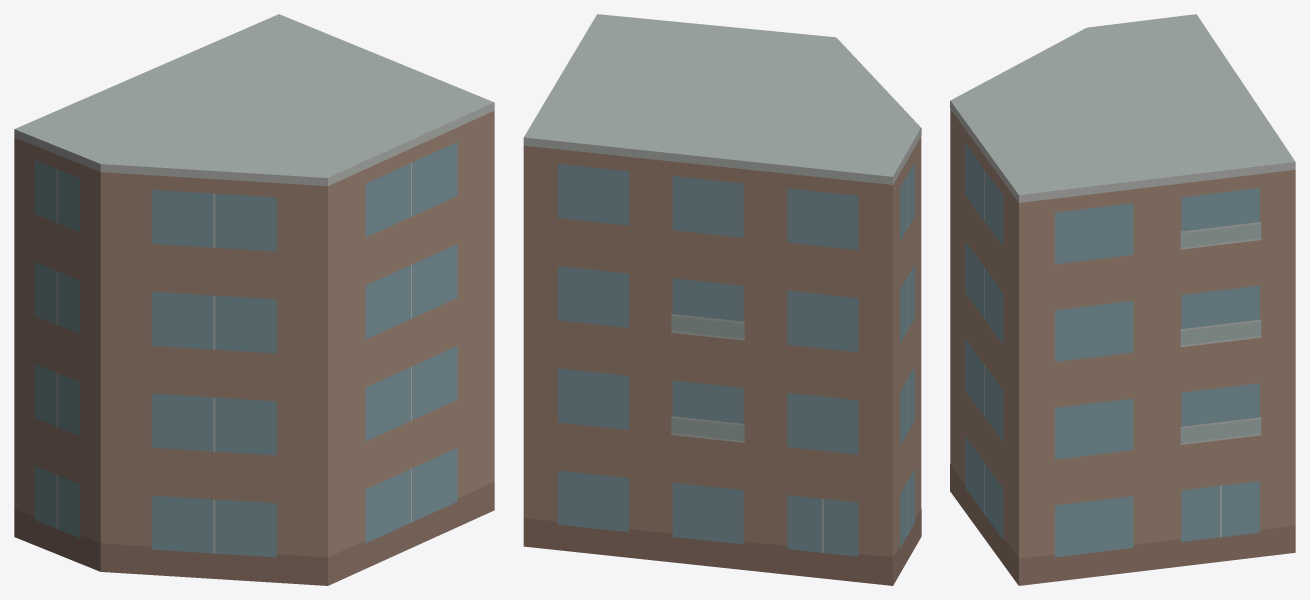
The model's file is survey-upis-32619838.glb.
The picture shows the model from 3 angles, left to right: view 1: azimuth 30°, elevation 25°; view 2: azimuth 150°, elevation 25°; view 3: azimuth 270°, elevation 25°; orthographic projection. The views are drawn at different scales.
Parts seen in each view (by area): view 1: survey-upis-32619838.tmp; view 2: survey-upis-32619838.tmp; view 3: survey-upis-32619838.tmp.
Boxes of the visible parts, x1,y1,x2,y2 form: survey-upis-32619838.tmp: (14, 14, 494, 585); survey-upis-32619838.tmp: (523, 14, 921, 585); survey-upis-32619838.tmp: (950, 14, 1295, 585).
Bounding box in the file's own units: 12.15 × 12.2 × 9.79.
